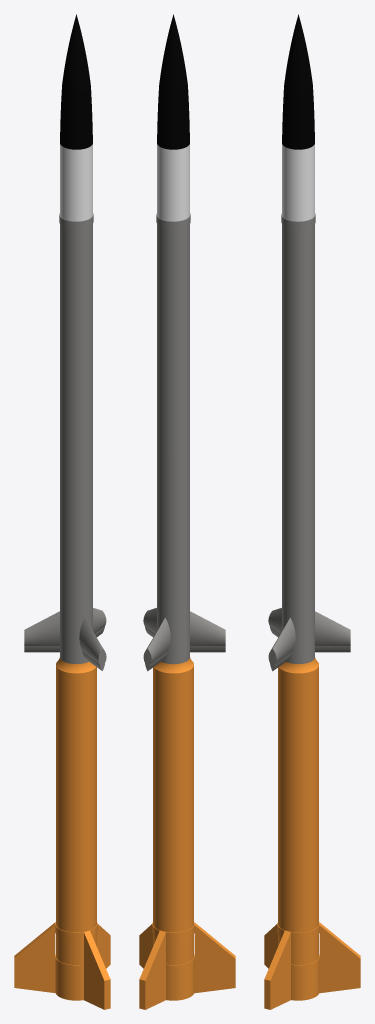
The model's file is sonda1.glb.
3 views of the same model, side by side, from view 1: azimuth 30°, elevation 25°; view 2: azimuth 210°, elevation 25°; view 3: azimuth 330°, elevation 25° (orthographic).
Visible parts, largest first — view 1: SÃ³lido1; view 2: SÃ³lido1; view 3: SÃ³lido1.
Boxes of the visible parts, x1,y1,x2,y2 form: SÃ³lido1: [14, 14, 110, 1009]; SÃ³lido1: [139, 14, 235, 1009]; SÃ³lido1: [264, 14, 360, 1009].
Bounding box in the file's own units: 0.4069 × 3.95 × 0.3526.
